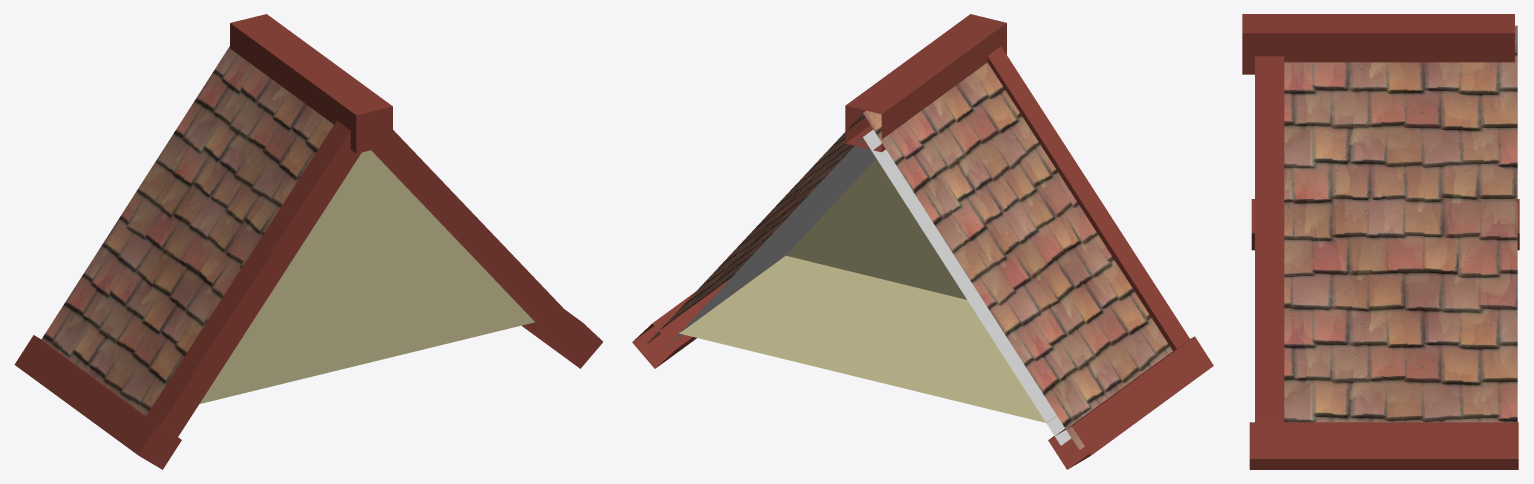
The model's file is roof_8x5x4_head.fbx.
3 views of the same model, side by side, from view 1: azimuth 30°, elevation 25°; view 2: azimuth 150°, elevation 25°; view 3: azimuth 270°, elevation 25° (orthographic). The views are drawn at different scales.
Parts seen in each view (by area): view 1: roof_8x5x4_head; view 2: roof_8x5x4_head; view 3: roof_8x5x4_head.
Boxes of the visible parts, box(x1,y1,x2,y2) form: roof_8x5x4_head: box(14, 14, 602, 469); roof_8x5x4_head: box(632, 14, 1213, 469); roof_8x5x4_head: box(1242, 14, 1519, 469).
Size of the model in its own units: 997 by 639 by 478.
